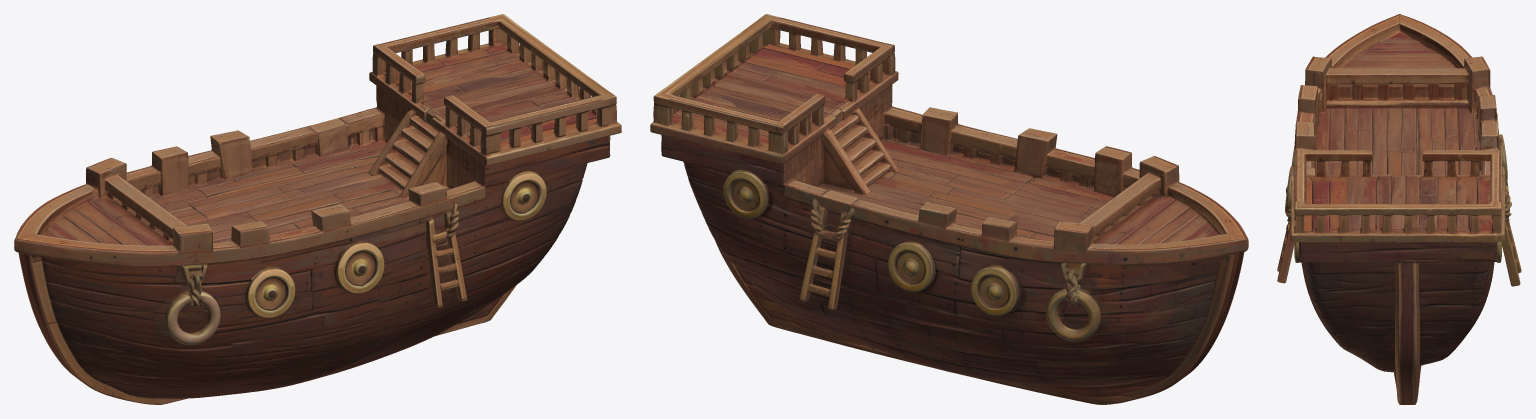
Rendered from WoodenShip.fbx.
The picture shows the model from 3 angles, left to right: view 1: azimuth 30°, elevation 25°; view 2: azimuth 150°, elevation 25°; view 3: azimuth 270°, elevation 25°; orthographic projection. The views are drawn at different scales.
Visible parts, largest first — view 1: Mesh_0; view 2: Mesh_0; view 3: Mesh_0.
Boxes of the visible parts, box(x1,y1,x2,y2) form: Mesh_0: box(14, 14, 621, 404); Mesh_0: box(650, 14, 1248, 404); Mesh_0: box(1277, 14, 1521, 404).
Bounding box in the file's own units: 190 × 82.6 × 80.26.
Materials: 1 (1 with a texture image).
